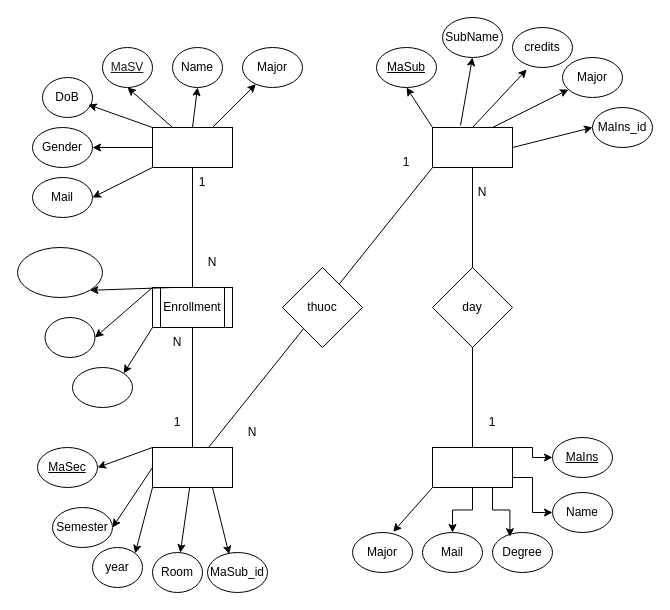
The diagram is 670 pixels wide and 610 high, and some of its shapes have lost their labels. Here are the shapes that lost their labels. From the top down, the box of each, then its label:
(152, 126, 232, 168): Student
(432, 126, 512, 168): Course
(16, 246, 102, 298): MaSV_id , MaSec_id
(44, 316, 95, 358): MaSV_id
(72, 366, 132, 408): MaSec_id
(152, 446, 232, 488): Class_Section
(432, 446, 512, 488): Instructor
